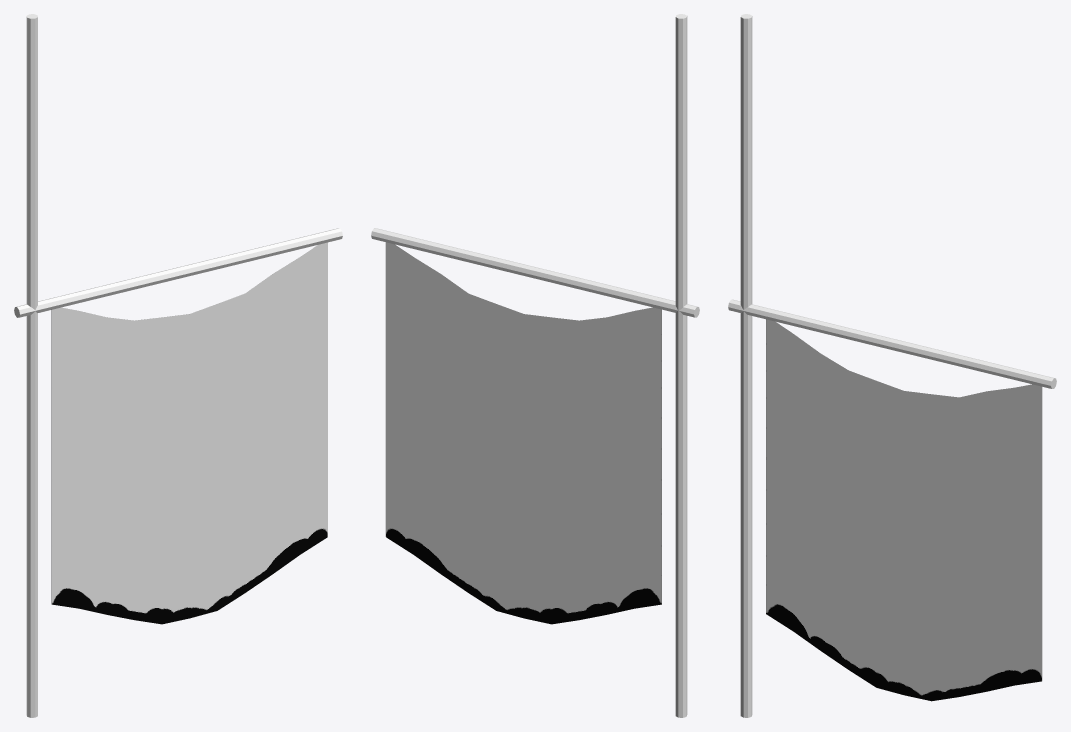
The model's file is Flag_001.fbx.
The picture shows the model from 3 angles, left to right: view 1: azimuth 30°, elevation 25°; view 2: azimuth 150°, elevation 25°; view 3: azimuth 330°, elevation 25°; orthographic projection.
Parts seen in each view (by area): view 1: Cloth, Stick_Long, Stick_Short; view 2: Cloth, Stick_Long, Stick_Short; view 3: Cloth, Stick_Long, Stick_Short.
Part boxes in pixels (<box>): Cloth: <box>51,242,327,624</box>; Stick_Long: <box>26,14,37,717</box>; Stick_Short: <box>14,228,342,317</box>; Cloth: <box>385,242,661,624</box>; Stick_Long: <box>675,14,687,717</box>; Stick_Short: <box>371,228,699,317</box>; Cloth: <box>766,319,1042,701</box>; Stick_Long: <box>740,14,752,717</box>; Stick_Short: <box>728,299,1056,388</box>.
Bounding box in the file's own units: 11.69 × 24.18 × 0.3787.
